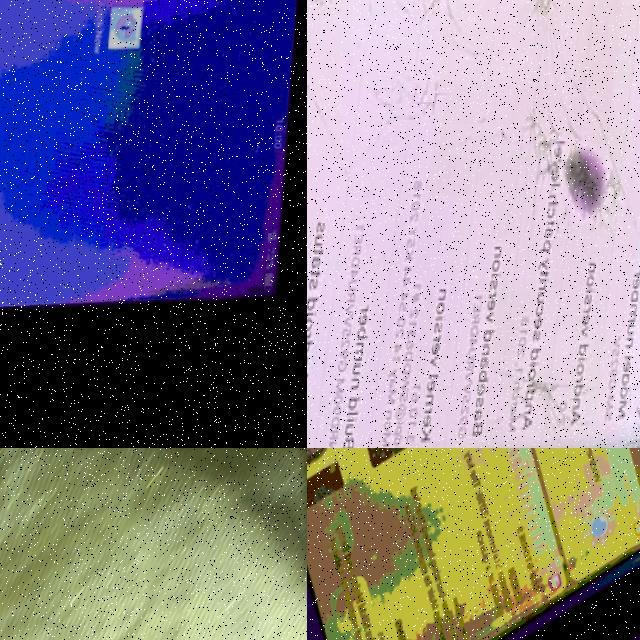screen crack: (307, 0, 481, 141), (516, 350, 640, 448), (481, 0, 572, 23)
